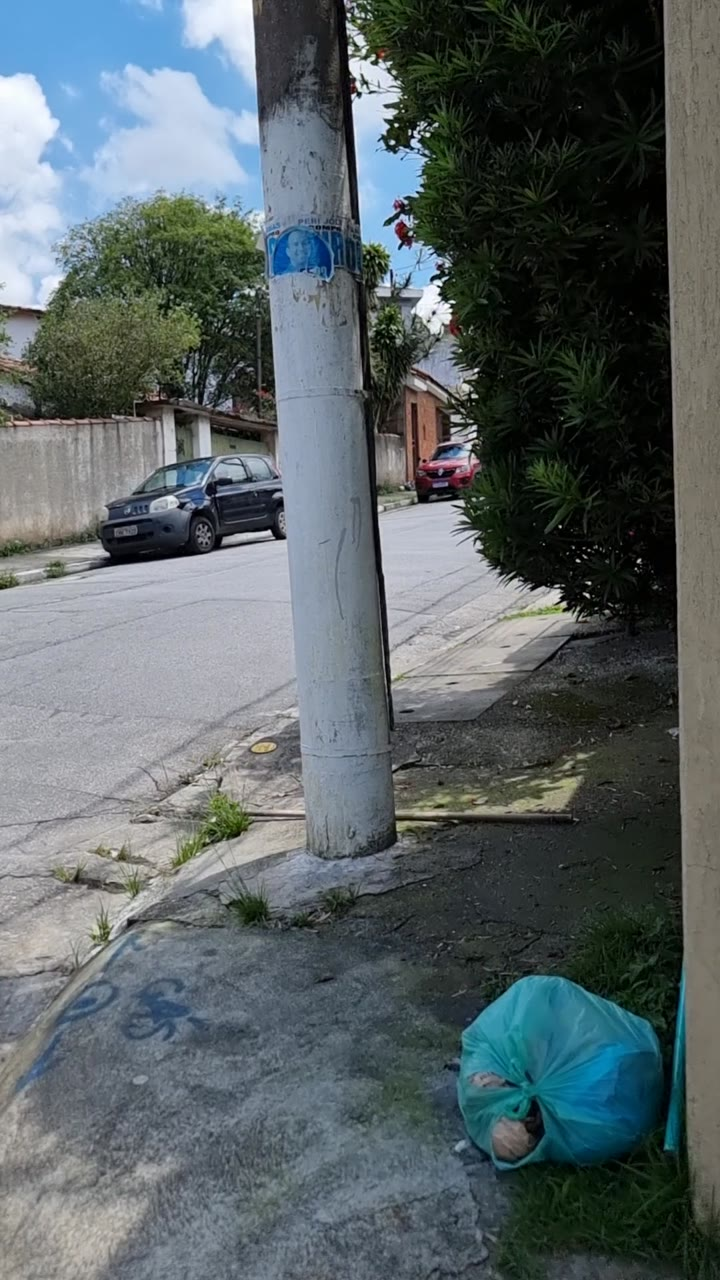obstaculo: (259, 3, 392, 857), (457, 976, 662, 1169)
